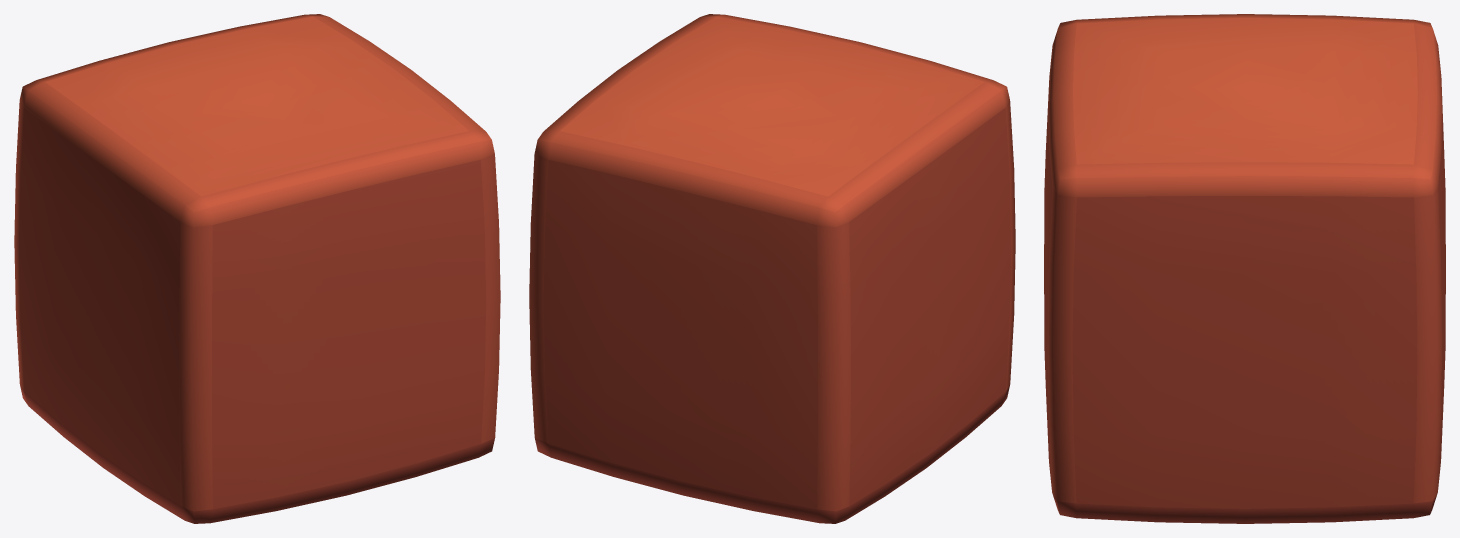
Rendered from block_stone1_3_LOD_setup.fbx.
The picture shows the model from 3 angles, left to right: view 1: azimuth 30°, elevation 25°; view 2: azimuth 150°, elevation 25°; view 3: azimuth 270°, elevation 25°; orthographic projection. The views are drawn at different scales.
Visible parts, largest first — view 1: block_stone1_3_LOD0; view 2: block_stone1_3_LOD0; view 3: block_stone1_3_LOD0.
Boxes of the visible parts, box(x1,y1,x2,y2) form: block_stone1_3_LOD0: box(14, 14, 500, 523); block_stone1_3_LOD0: box(529, 14, 1015, 523); block_stone1_3_LOD0: box(1044, 14, 1445, 523).
Size of what is drawn, in the model's own units: 109 by 109 by 109.
